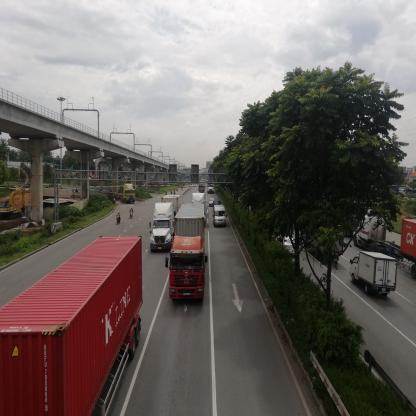car: (214, 206, 226, 225)
container: (6, 236, 145, 416), (175, 204, 208, 308), (354, 210, 416, 259), (155, 195, 178, 256), (106, 183, 135, 201), (192, 192, 204, 204)
motorbike: (117, 214, 123, 224), (130, 209, 133, 220)
truck: (349, 253, 399, 298)
